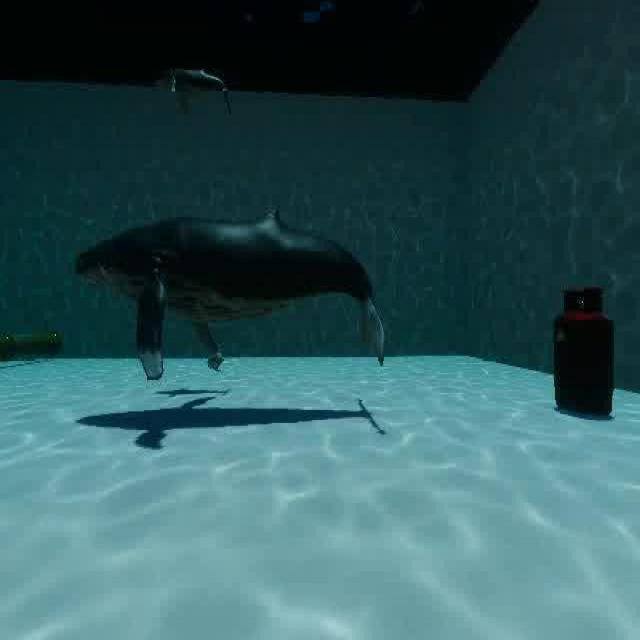Cylinder: (539, 272, 620, 430)
Pipe: (0, 323, 65, 365)
Shell: (198, 344, 235, 372)
Whale: (69, 200, 404, 429), (139, 44, 250, 132)
